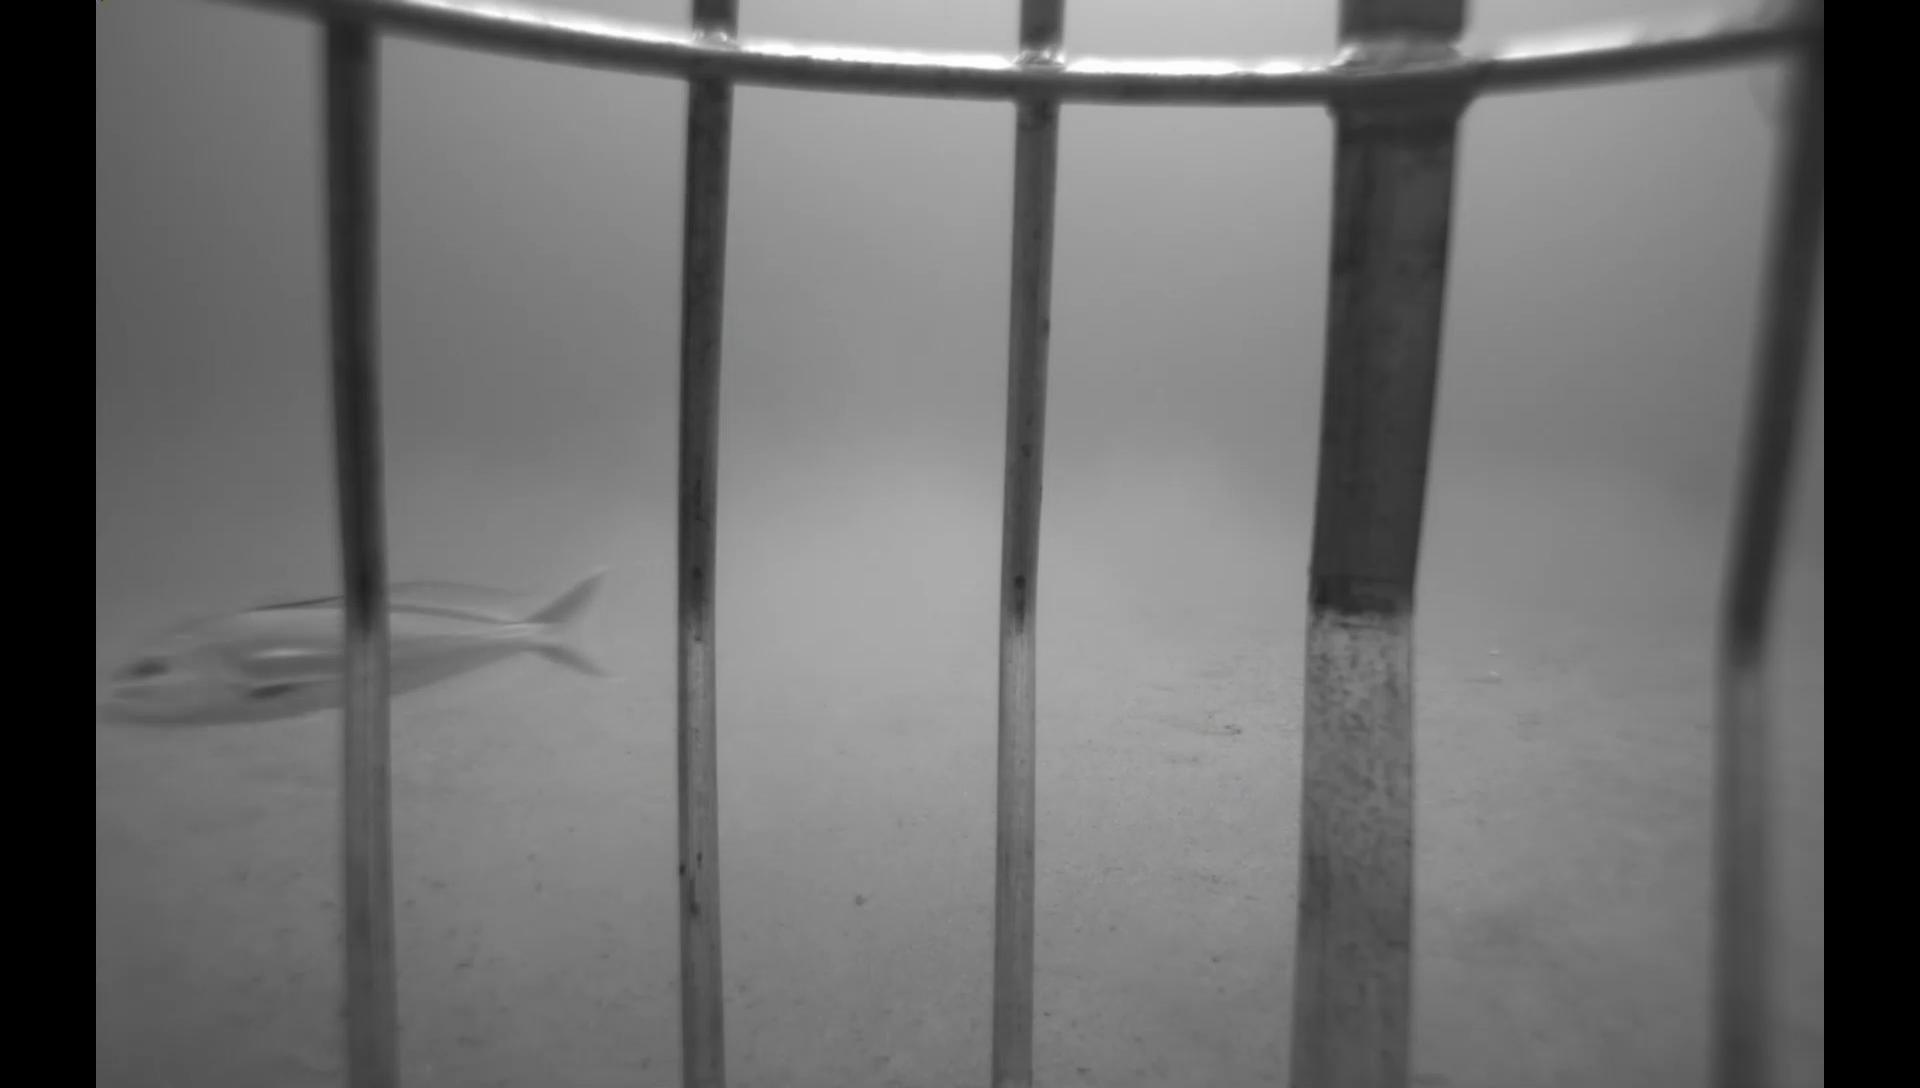CAULOLATILUSCYANOPS-170070101: (94, 555, 633, 748)
SYACIUM-183011000: (1143, 699, 1249, 742)
